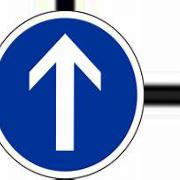forward: (2, 10, 145, 180)
